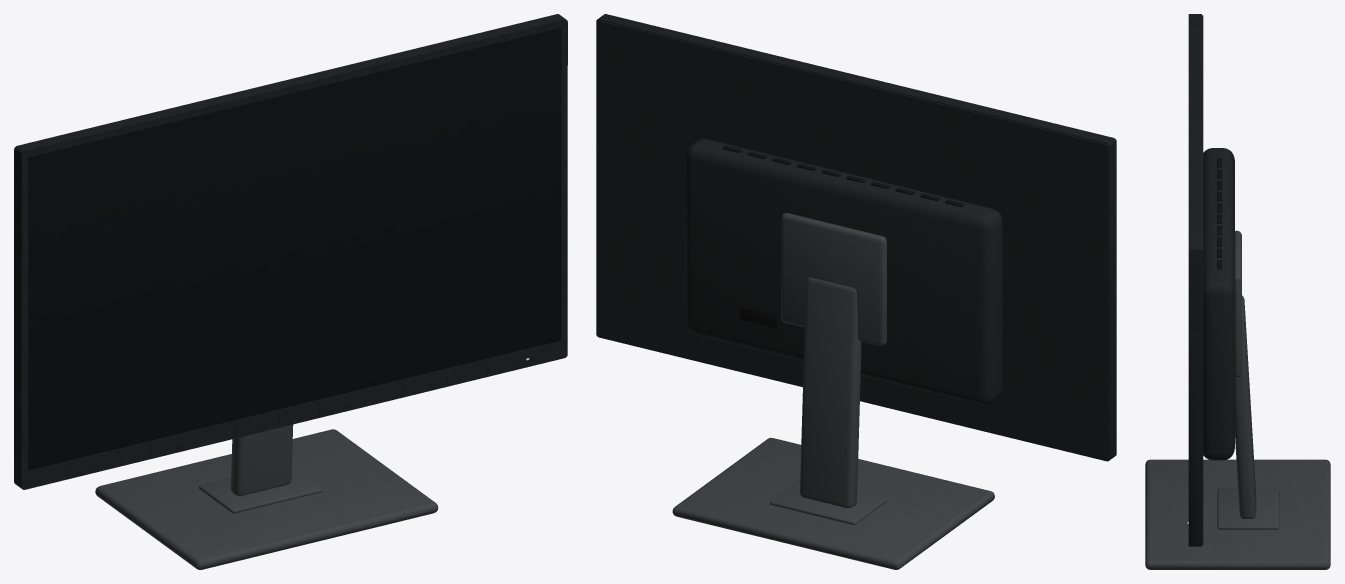
Rendered from monitor.glb.
3 views of the same model, side by side, from view 1: azimuth 30°, elevation 25°; view 2: azimuth 150°, elevation 25°; view 3: azimuth 270°, elevation 25° (orthographic). The views are drawn at different scales.
Visible parts, largest first — view 1: Screen, Stand, Bezel frame; view 2: Rear housing, Stand, Bezel frame, Vents and ports; view 3: Stand, Rear housing, Bezel frame, Vents and ports.
Boxes of the visible parts, x1,y1,x2,y2 form: Screen: [28, 28, 560, 470]; Stand: [95, 424, 438, 569]; Bezel frame: [14, 14, 567, 489]; Rear housing: [596, 20, 1108, 460]; Stand: [672, 213, 994, 569]; Bezel frame: [596, 14, 1116, 461]; Vents and ports: [723, 145, 964, 328]; Stand: [1145, 230, 1330, 569]; Rear housing: [1202, 15, 1234, 545]; Bezel frame: [1188, 14, 1201, 546]; Vents and ports: [1217, 158, 1235, 407].
Size of the model in its own units: 0.5409 by 0.4164 by 0.18.
Materials: 6 (4 with a texture image).
